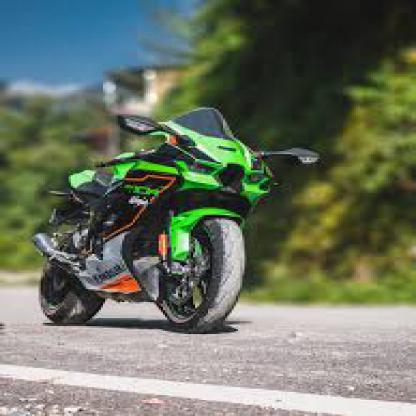Motorcycle: (29, 104, 327, 335)
